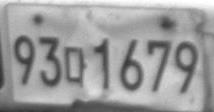1: (90, 37, 116, 90)
3: (37, 35, 62, 87)
6: (118, 38, 144, 91)
7: (147, 39, 172, 92)
9: (173, 39, 199, 93), (12, 34, 36, 85)
다: (63, 45, 87, 89)
